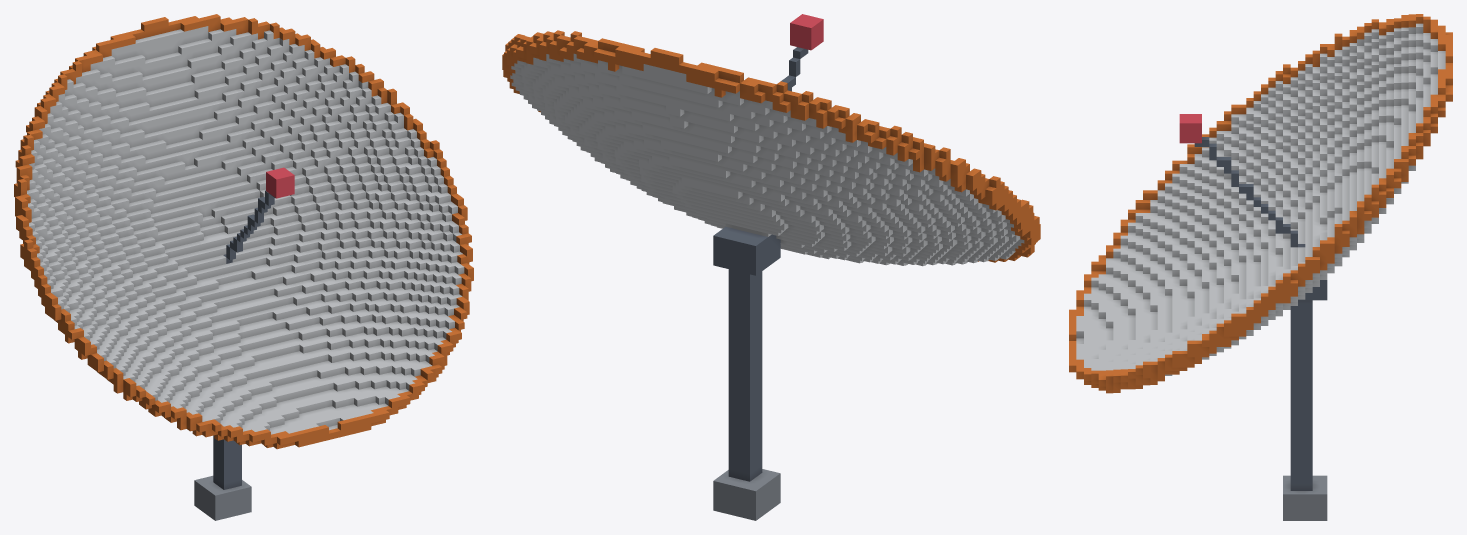
The model's file is dish_xl.glb.
3 views of the same model, side by side, from view 1: azimuth 30°, elevation 25°; view 2: azimuth 150°, elevation 25°; view 3: azimuth 270°, elevation 25° (orthographic). The views are drawn at different scales.
Visible parts, largest first — view 1: Base; view 2: Base; view 3: Base.
Part boxes in pixels (left/top/right/bottom): Base: left=14, top=14, right=473, bottom=520; Base: left=502, top=14, right=1040, bottom=520; Base: left=1069, top=14, right=1452, bottom=520.
Bounding box in the file's own units: 6.8 × 6.9 × 5.2.
